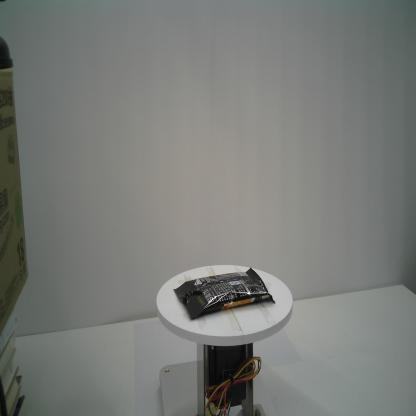Instant Drink: (173, 267, 276, 320)
